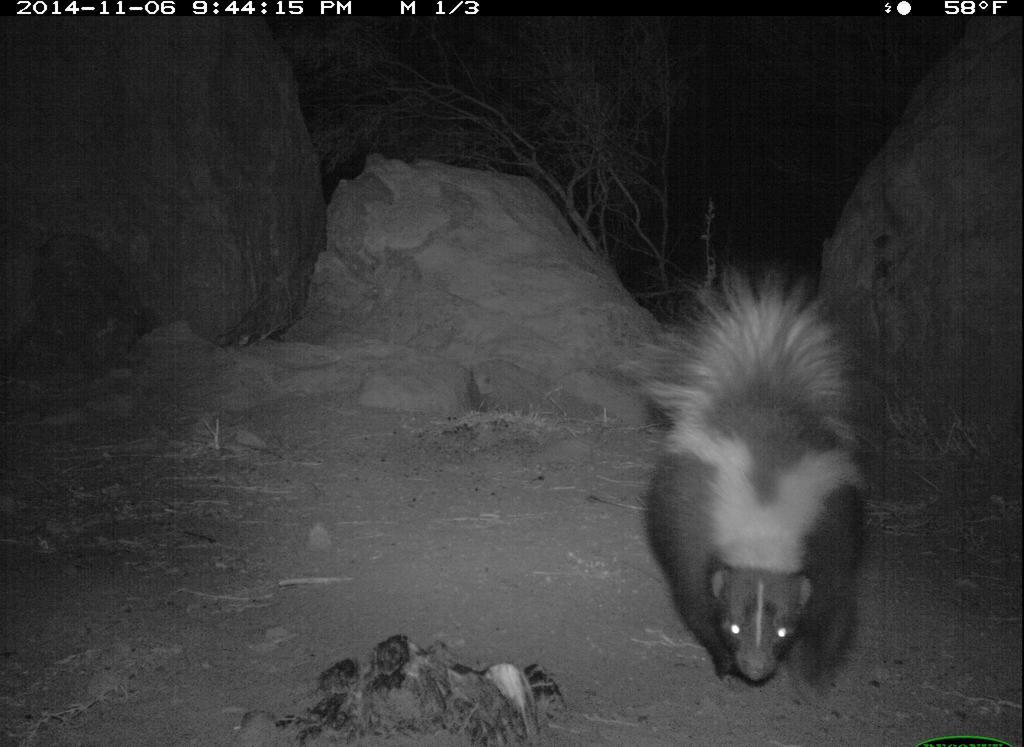skunk: (609, 267, 877, 699)
